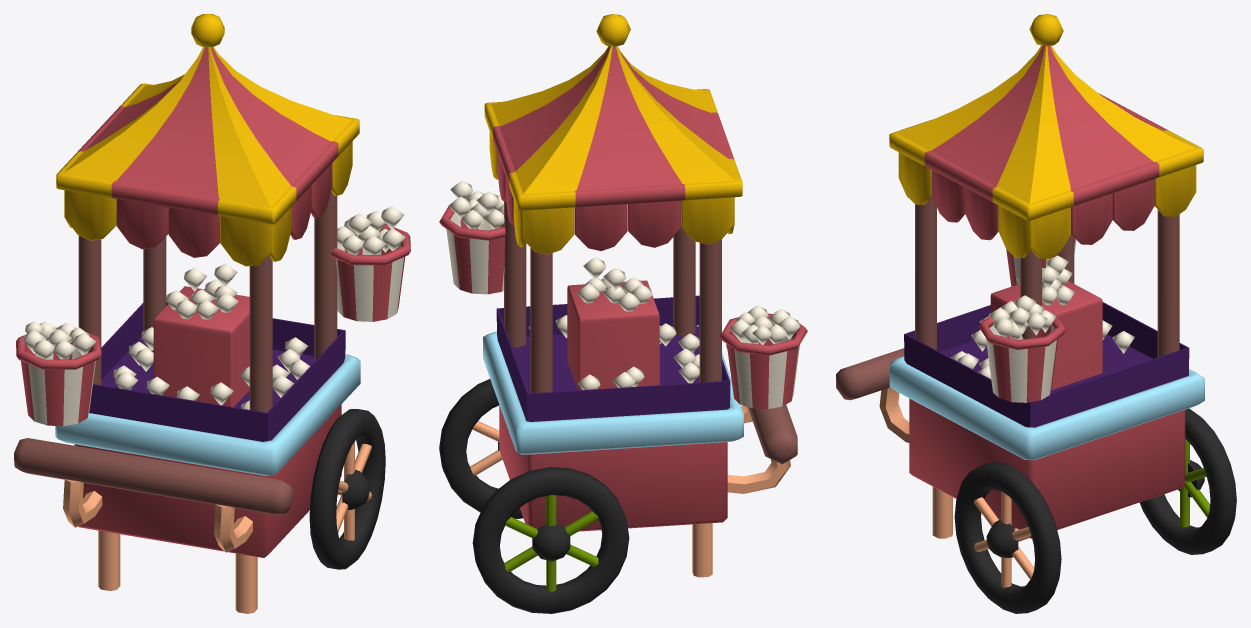
The model's file is Popcorn.fbx.
3 renders of one model, left to right at view 1: azimuth 30°, elevation 25°; view 2: azimuth 150°, elevation 25°; view 3: azimuth 270°, elevation 25°, orthographic. The views are drawn at different scales.
Parts seen in each view (by area): view 1: PopCorn_Bucket_03; view 2: PopCorn_Bucket_03; view 3: PopCorn_Bucket_03.
Part boxes in pixels (x1,y1,x2,y2): PopCorn_Bucket_03: (14, 14, 410, 613); PopCorn_Bucket_03: (439, 14, 807, 613); PopCorn_Bucket_03: (836, 14, 1236, 613).
Bounding box in the file's own units: 3.02 × 4.28 × 2.89.
